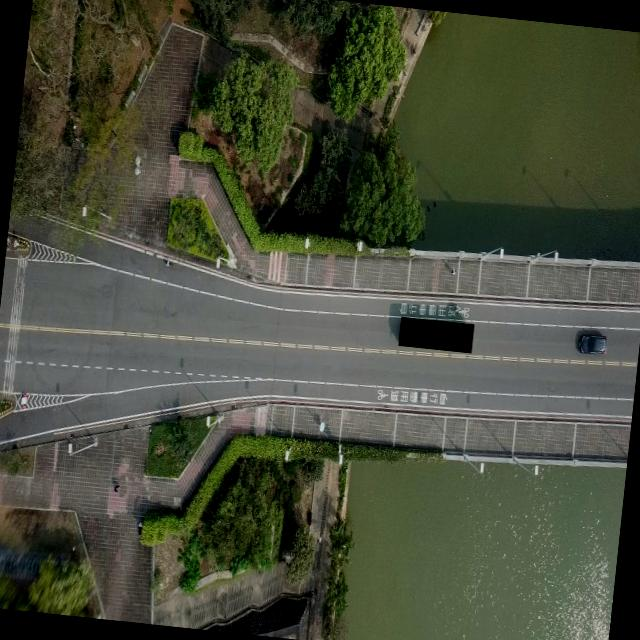car: (574, 330, 608, 356)
